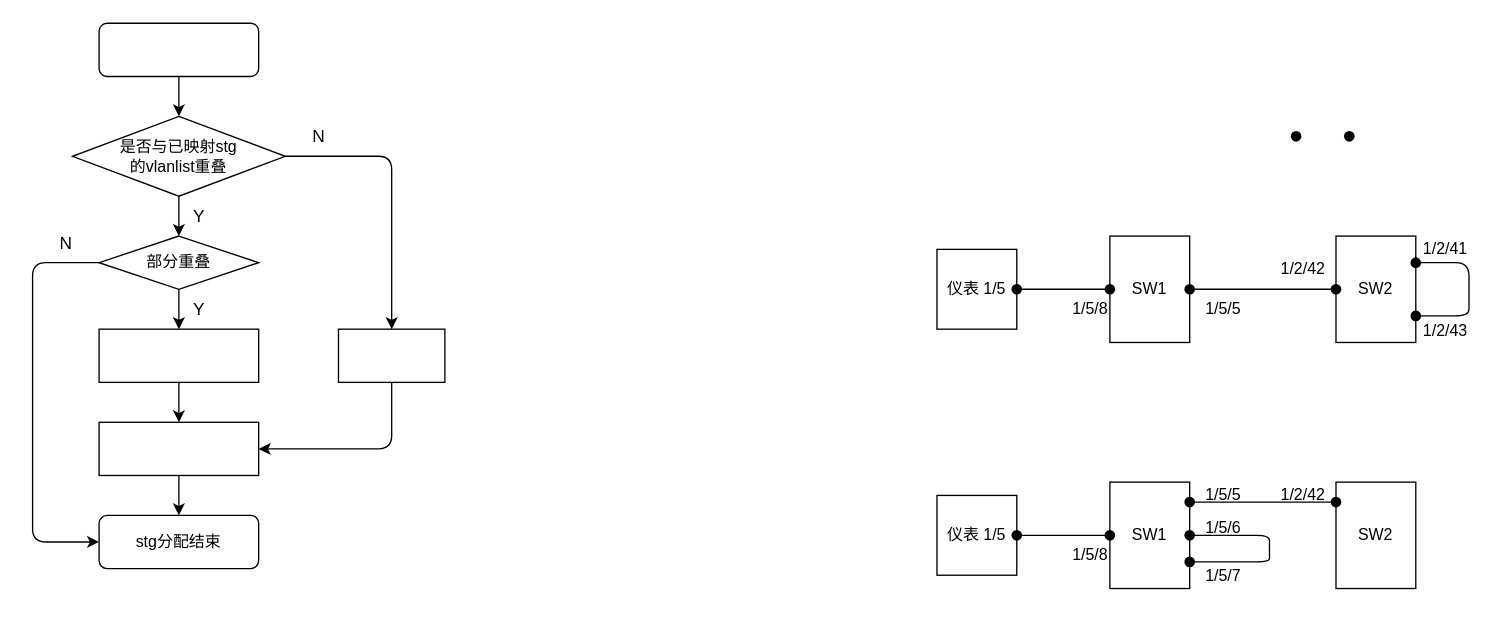
Image size: 1508x620. Some labels were removed from this diagram. The centre of each missing label's shape, as x and y in pixels:
"vlan映射或者重新映射到stgid" goes at (x=178, y=448).
"分配新stgid" goes at (x=391, y=355).
"待配置vlanlist" goes at (x=178, y=49).
"拆分已配置stgid，分配新stgid" goes at (x=178, y=355).
